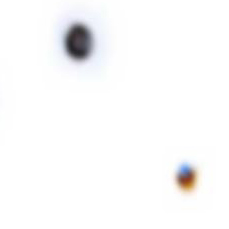cancer: (56, 13, 117, 76)
normal: (168, 151, 212, 202)
